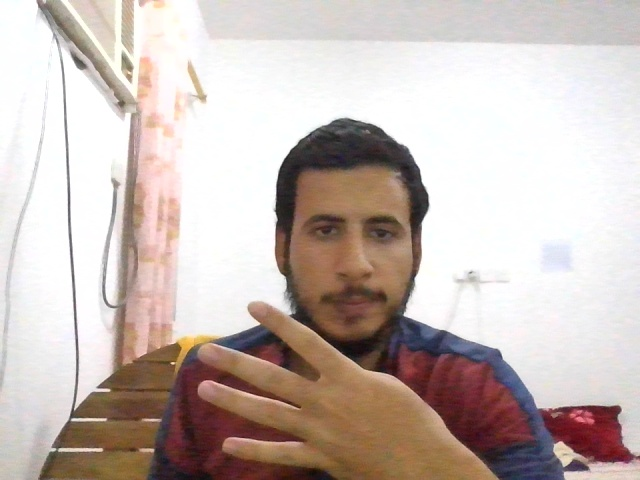Four: (194, 302, 442, 478)
